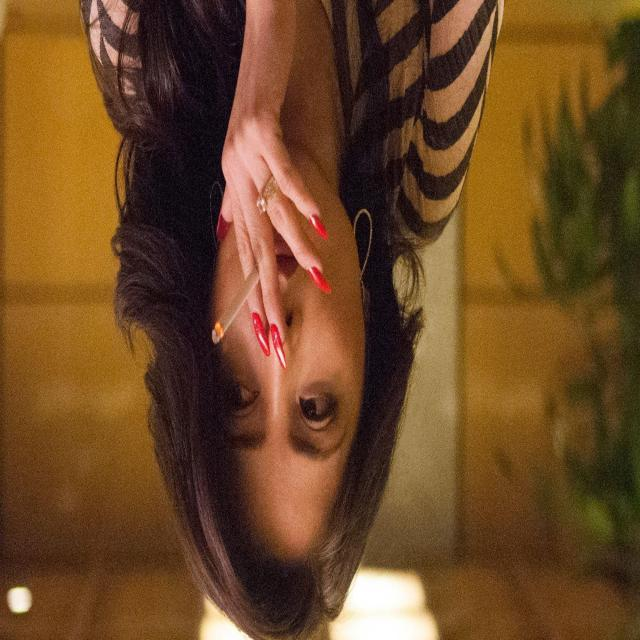cigarette: (200, 232, 285, 370)
